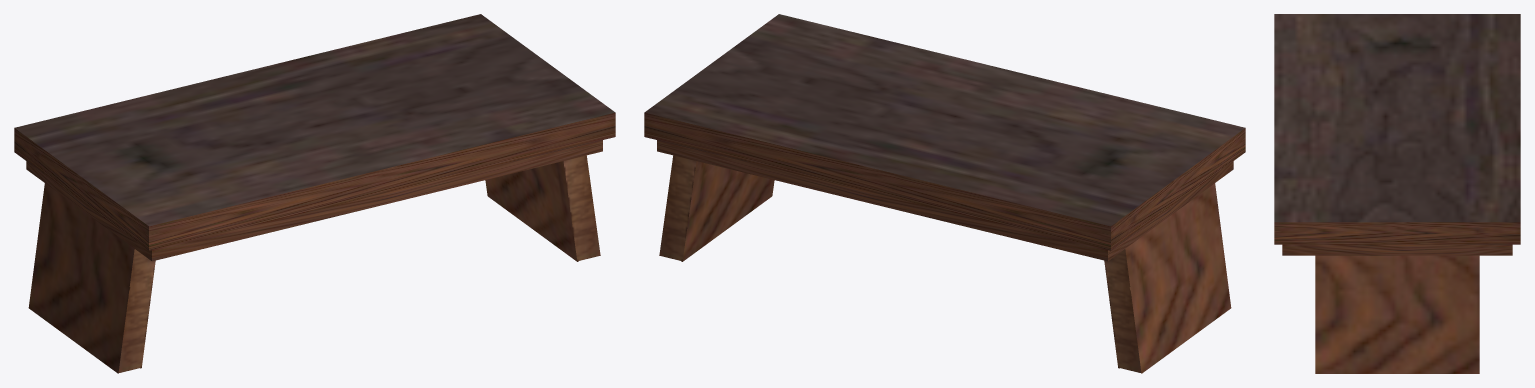
The model's file is workstationDesk.fbx.
3 views of the same model, side by side, from view 1: azimuth 30°, elevation 25°; view 2: azimuth 150°, elevation 25°; view 3: azimuth 270°, elevation 25° (orthographic). The views are drawn at different scales.
Parts seen in each view (by area): view 1: WorkstationDesk; view 2: WorkstationDesk; view 3: WorkstationDesk.
Part boxes in pixels (left/top/right/bottom): WorkstationDesk: left=14, top=14, right=615, bottom=373; WorkstationDesk: left=644, top=14, right=1245, bottom=373; WorkstationDesk: left=1274, top=14, right=1520, bottom=373.
Size of the model in its own units: 620 by 199 by 300.
1 material, 1 textured.
